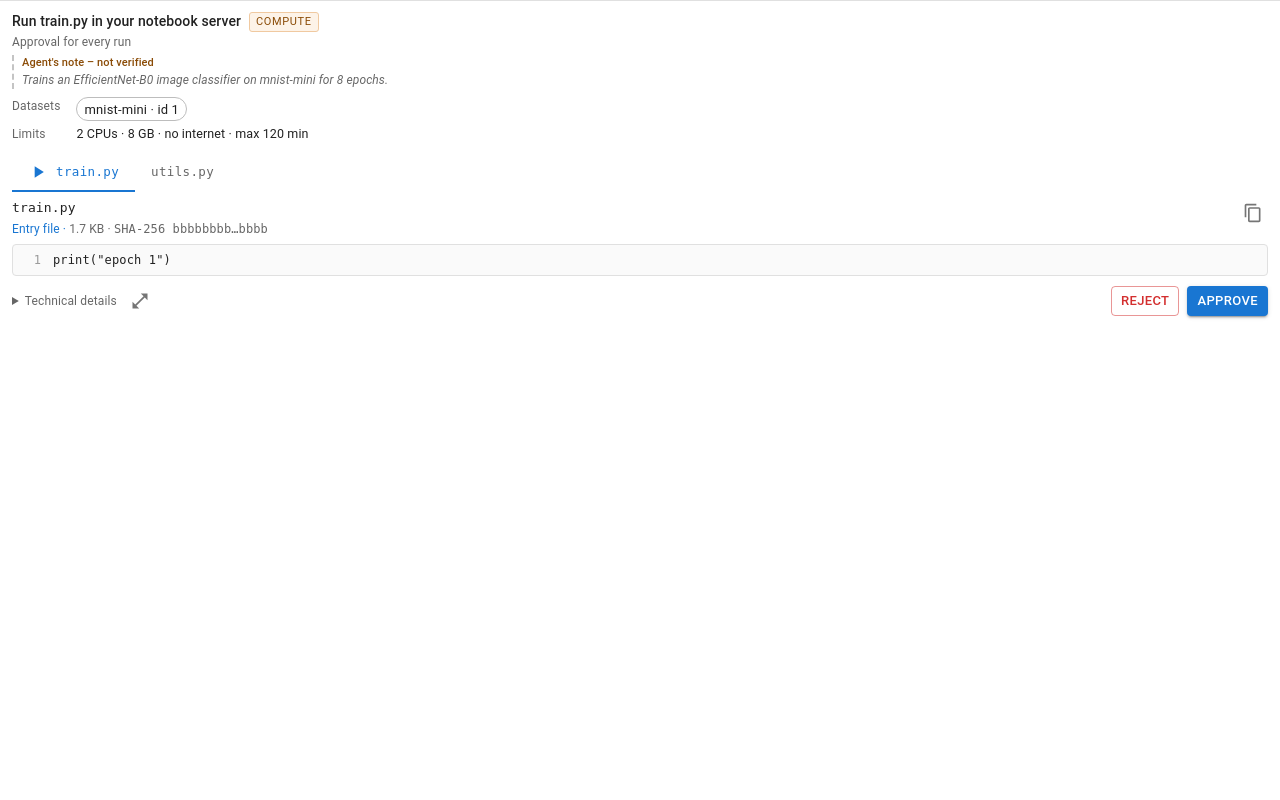
the expand dialog › shows the agent note and no technical details (gaps L2/L6)
Click the button named "Expand".
click(140, 301)  # box top-left (125, 286), bottom-right (155, 316)
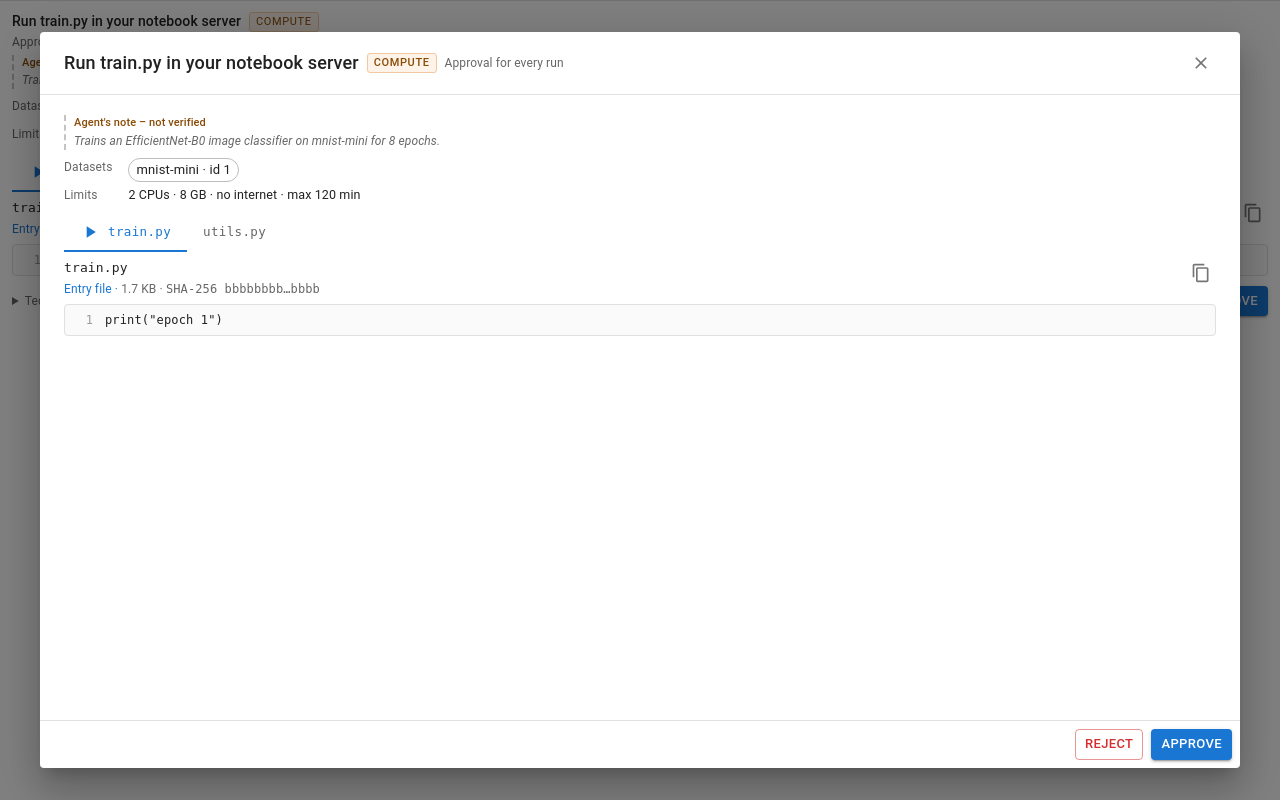
Now the element with test id "agent-notebook-approval-note" shows "Trains an EfficientNet-B0 image classifier on mnist-mini for 8 epochs.", box top-left (74, 134), bottom-right (440, 148)
